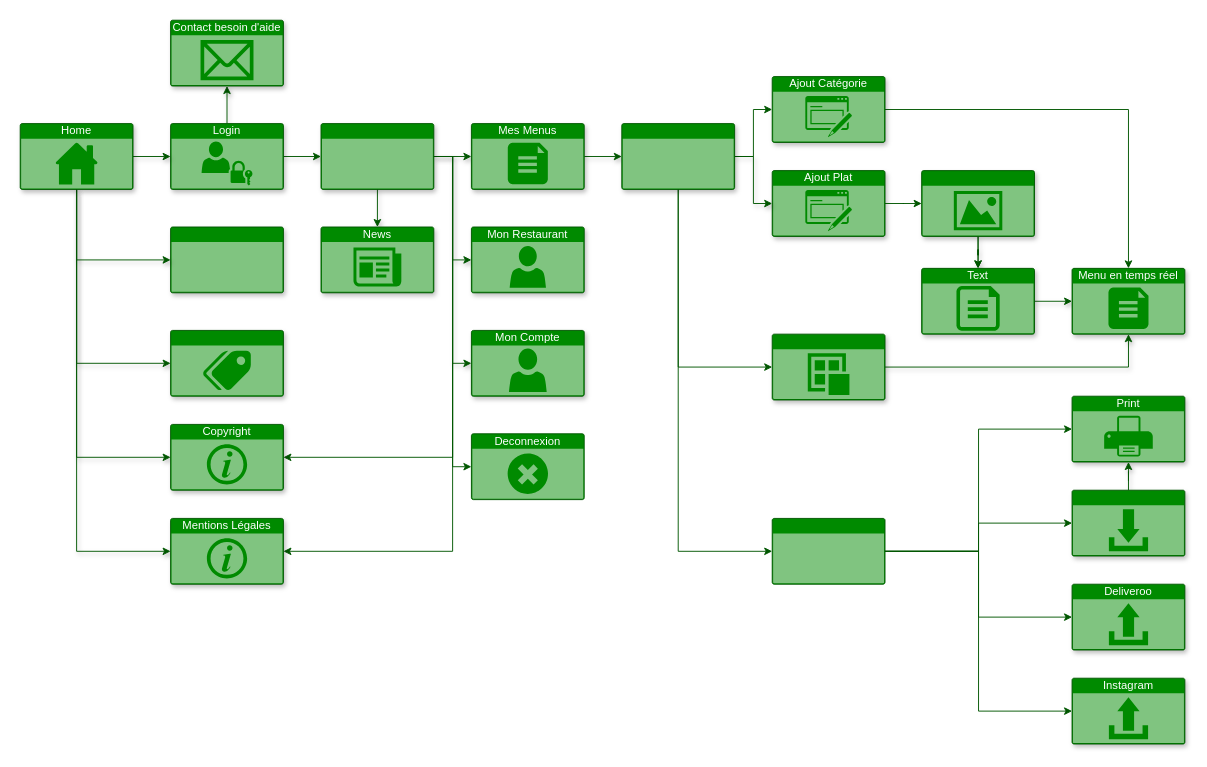
Image size: 1207x767. Some labels were removed from this diagram. Each missing label, with the centre of its shape:
"Créer Menu" goes at (678,157).
"Download" goes at (1129,524).
"Export et diffusion" goes at (828,550).
"Page Dashboard" goes at (377,157).
"Page Exemple" goes at (227,260).
"Personnalisez Menu" goes at (829,368).
"Photo" goes at (978,204).
"Pricing" goes at (227,364).
